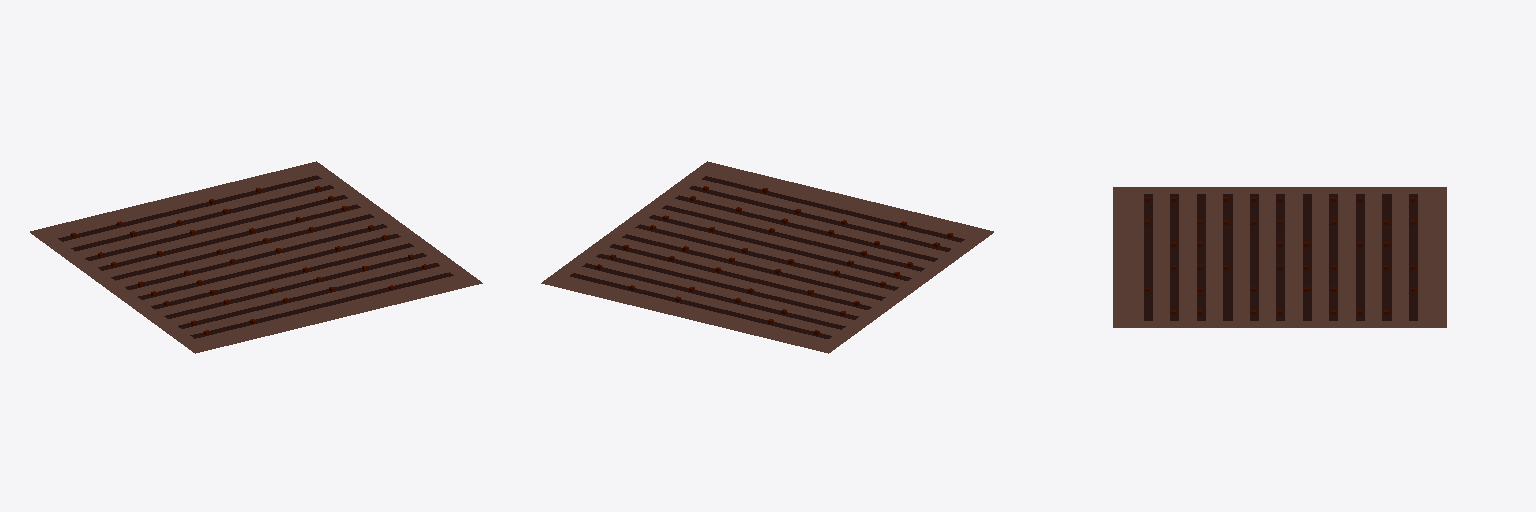
3 views of the same model, side by side, from view 1: azimuth 30°, elevation 25°; view 2: azimuth 150°, elevation 25°; view 3: azimuth 270°, elevation 25° (orthographic).
Visible parts, largest first — view 1: Land_0%_Plane.006; view 2: Land_0%_Plane.006; view 3: Land_0%_Plane.006.
Part boxes in pixels (left/top/right/bottom): Land_0%_Plane.006: left=30, top=161, right=482, bottom=353; Land_0%_Plane.006: left=541, top=161, right=993, bottom=353; Land_0%_Plane.006: left=1113, top=187, right=1446, bottom=327.
Bounding box in the file's own units: 2 × 0.0202 × 2.
2 materials, 1 textured.